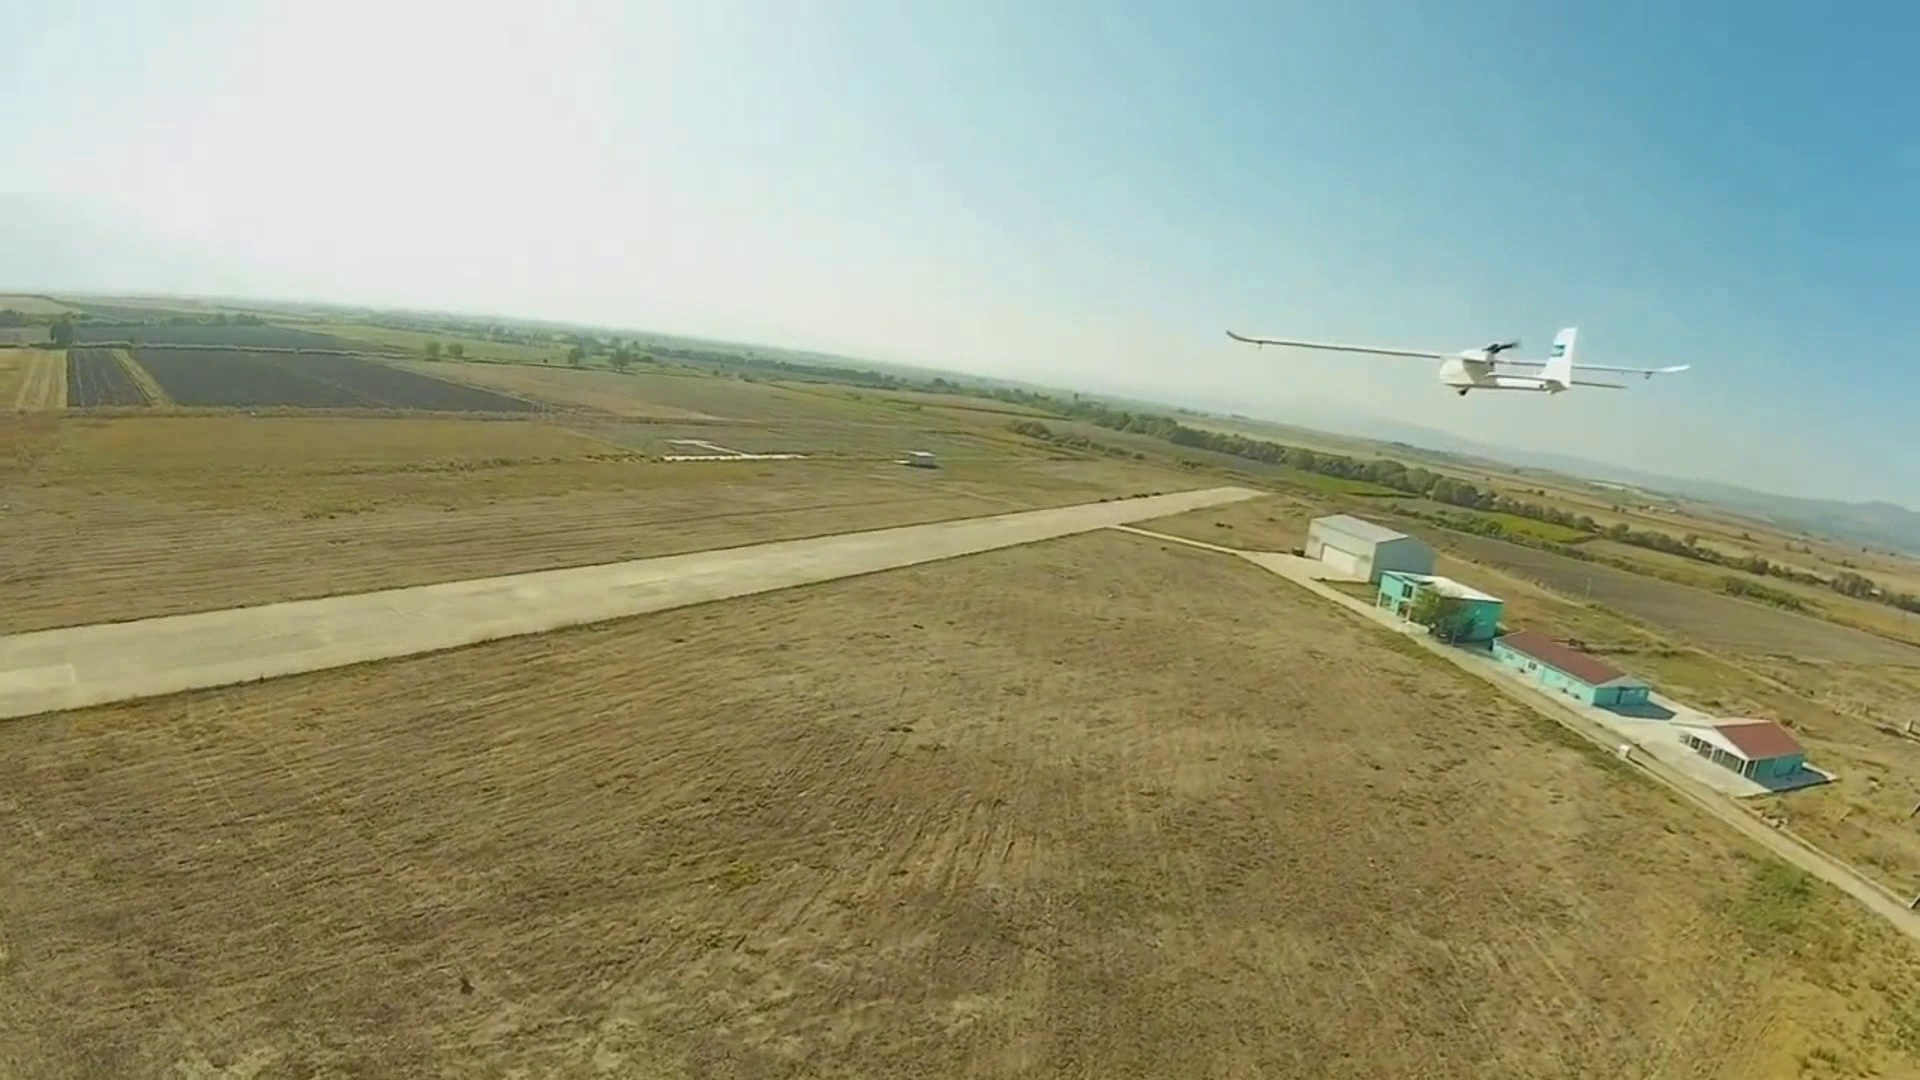airplane: (1223, 322, 1693, 397)
